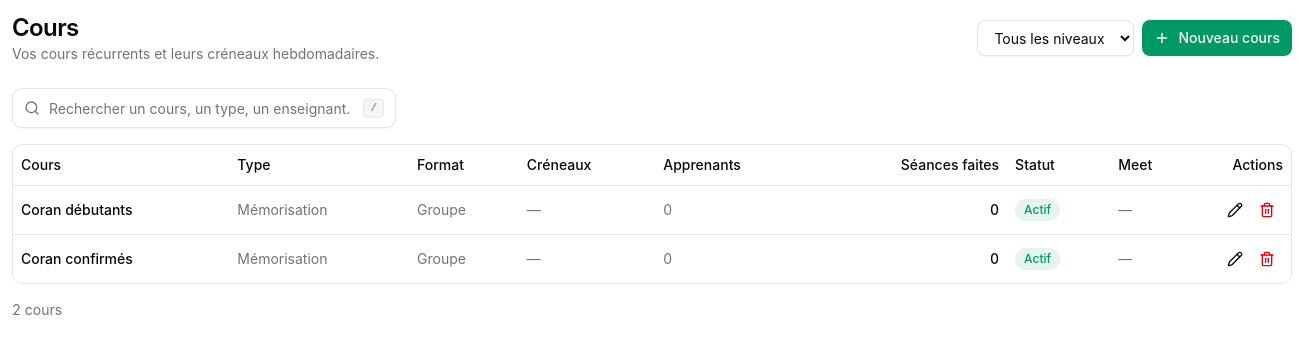
Scenario: CoursPage — recherche › cumule recherche et niveau, et le dit quand rien ne correspond
Select "Niveau 2" in the dropdown named "Filtrer par niveau" at (1056, 38), box [977,20,1134,56]
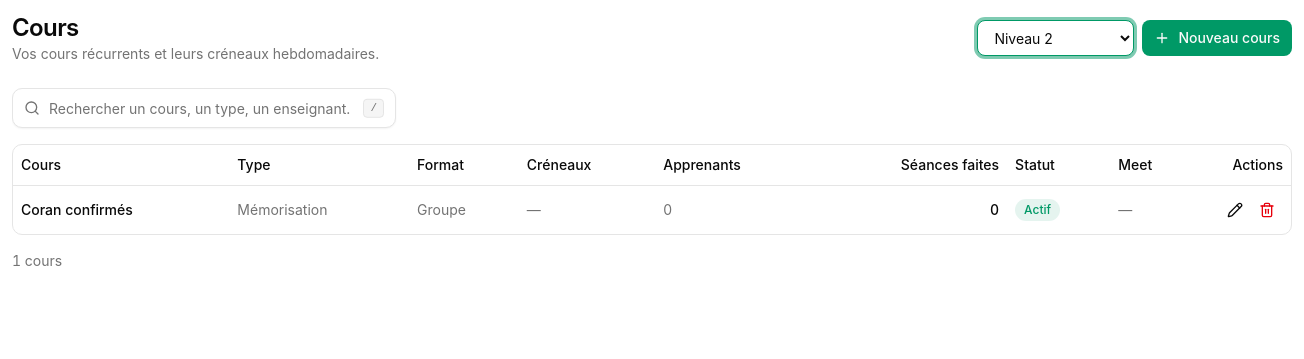
Type "debutants" into the search field at (204, 108), box [12,88,396,128]
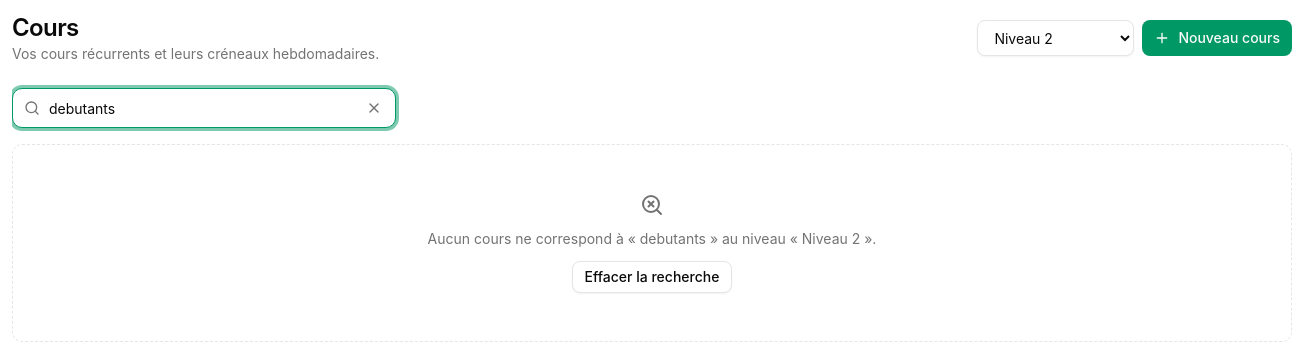
Now the text "Aucun cours ne correspond à « debutants » au niveau « Niveau 2 »." is shown, box [428,229,876,249]
Click the button "Effacer la recherche" at (652, 277), box [572,261,732,293]
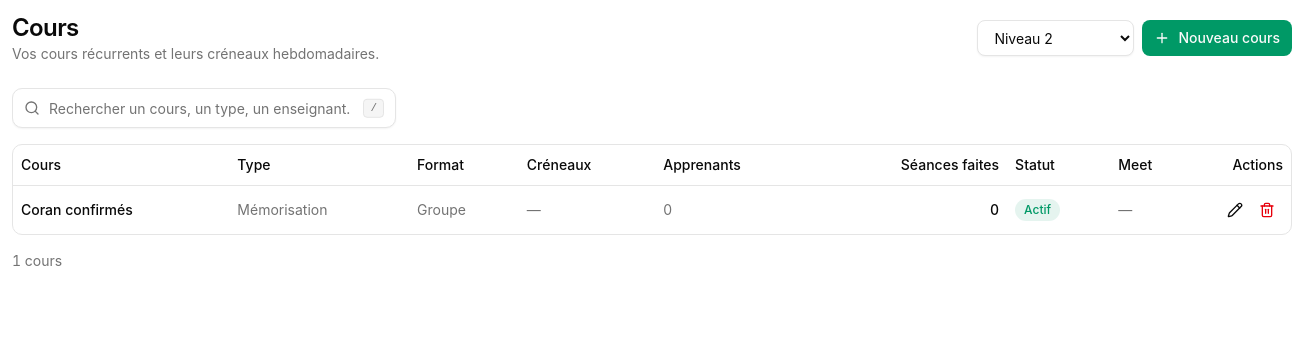
Now the button "Coran confirmés" is shown, box [21,200,133,220]
